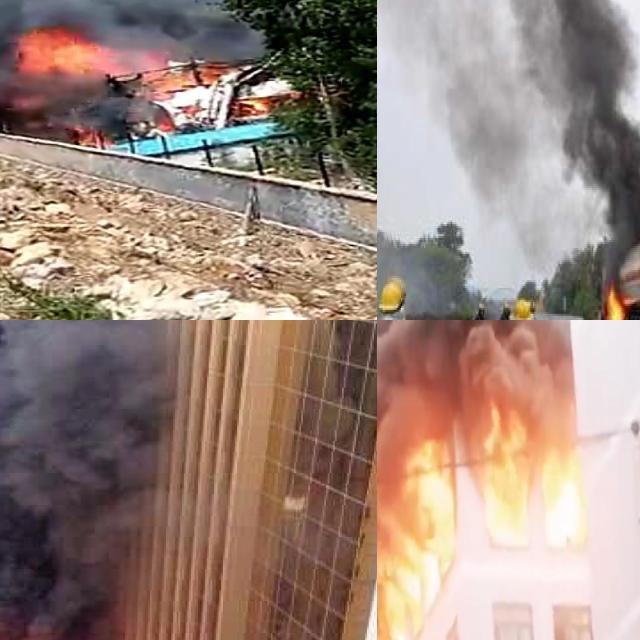fire: (5, 30, 245, 107), (377, 435, 457, 640), (477, 406, 586, 553), (602, 281, 627, 320)
smoke: (417, 0, 640, 255), (0, 320, 174, 640), (377, 320, 569, 416), (377, 236, 434, 308)
